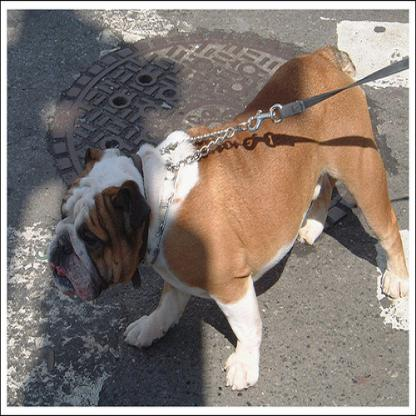dog: (49, 47, 410, 392)
